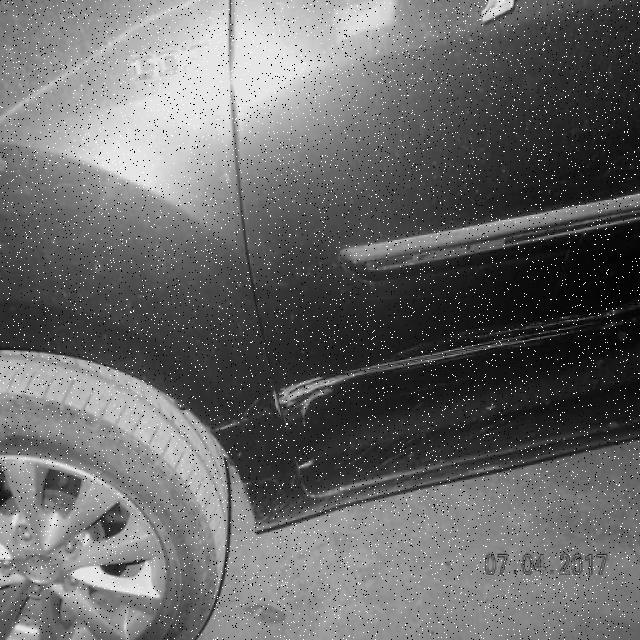car damage: (256, 296, 639, 434), (259, 443, 515, 533), (297, 454, 320, 475), (481, 402, 501, 420)
